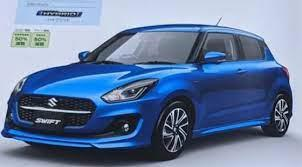Hatchback: (0, 22, 297, 160)
